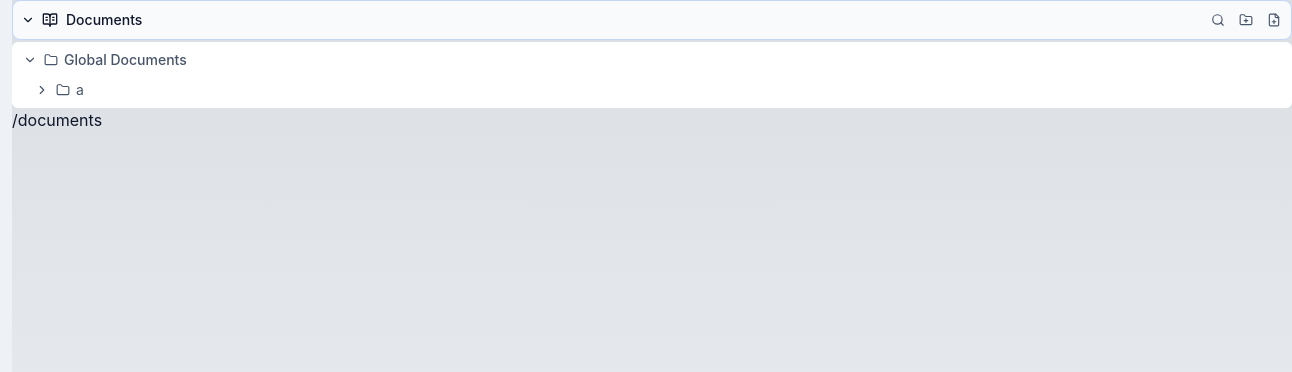
DocumentsSidebarSection › hides the folder action on a depth-5 folder but keeps the document action
This screenshot has width=1292, height=372.
Click the button named "Expand a". click: click(42, 90)
box: [32,80,52,100]
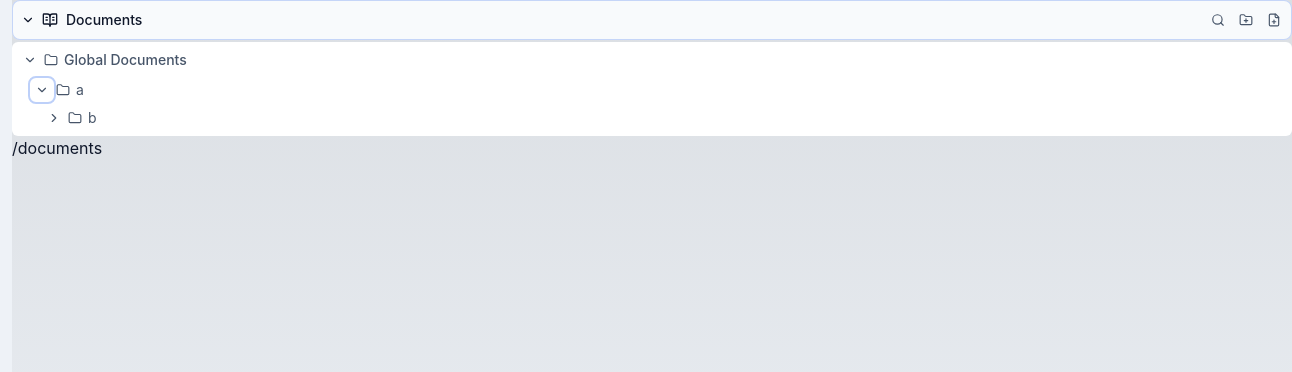
Click the button named "Expand b". click: click(54, 118)
box: [44,108,64,128]
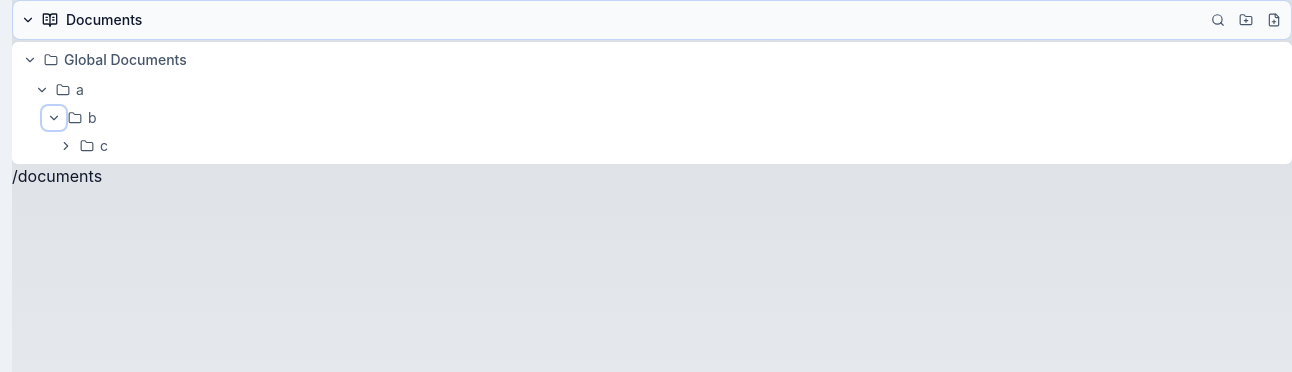
Click the button named "Expand c". click: click(66, 146)
box: [56,136,76,156]
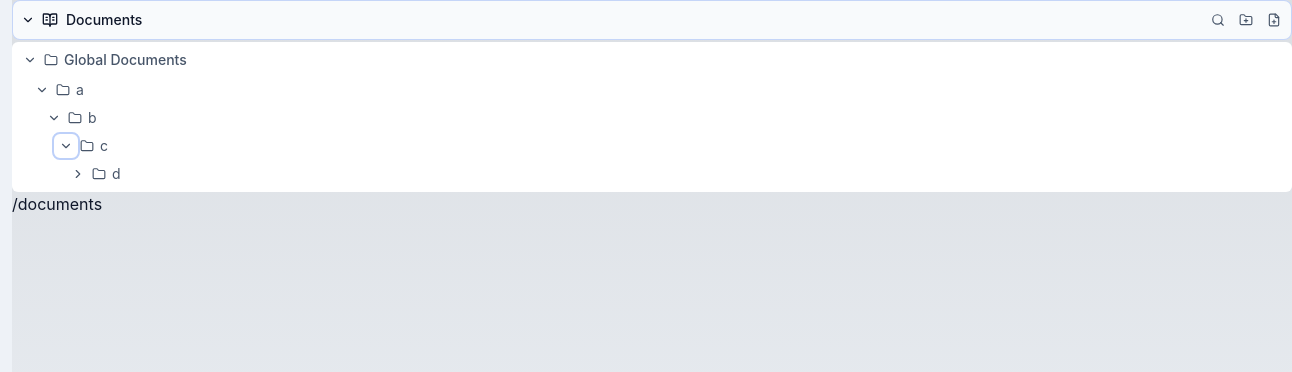
Click the button named "Expand d". click: click(78, 174)
box: [68,164,88,184]
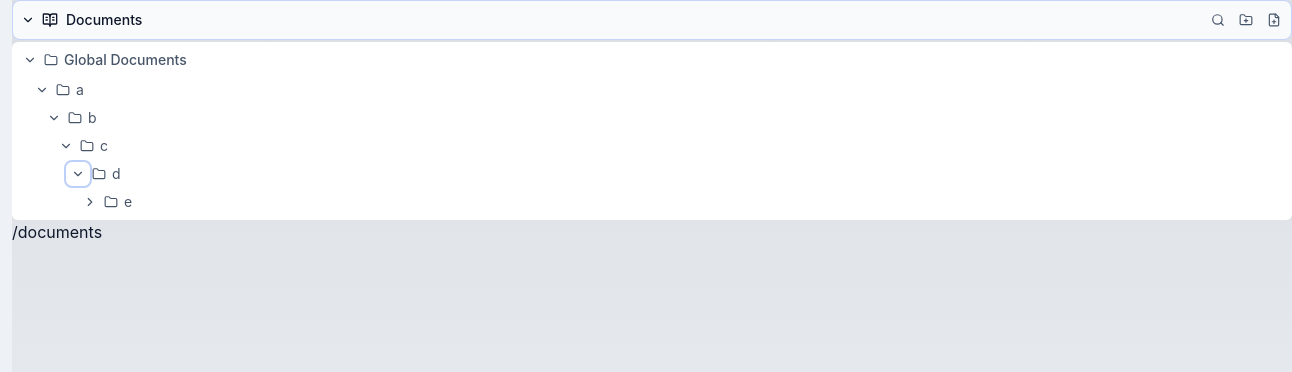
Check: the text "e" is shown, box [124,193,132,210]
